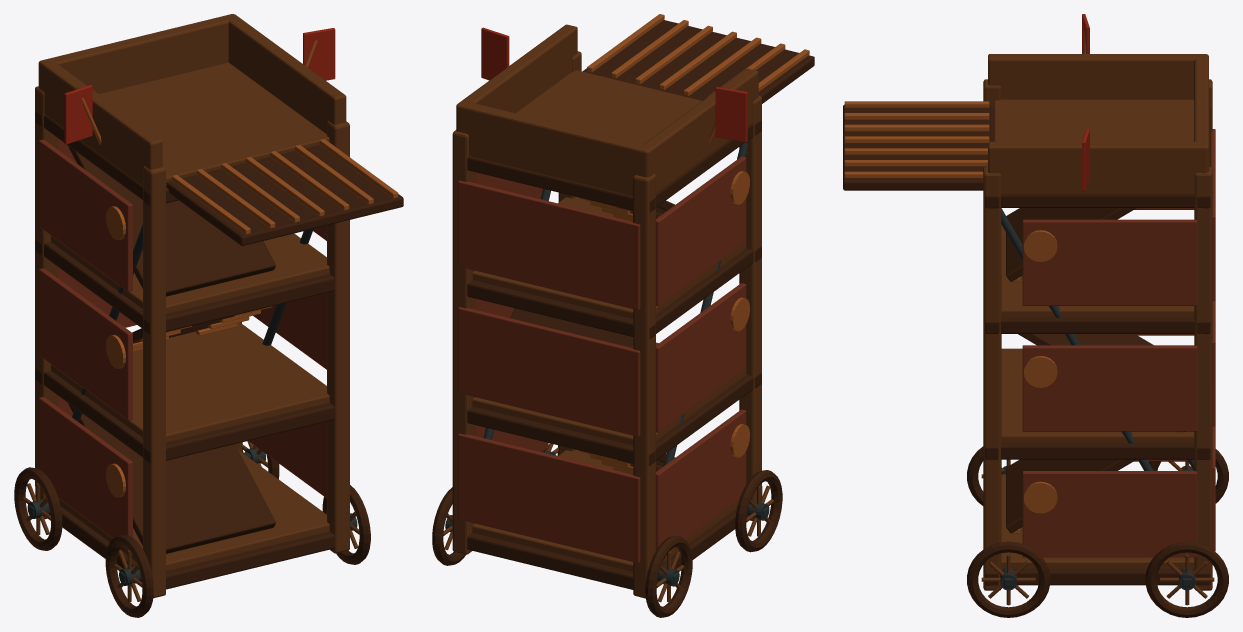
The model's file is siege_tower_traversable_LOD0.glb.
The picture shows the model from 3 angles, left to right: view 1: azimuth 30°, elevation 25°; view 2: azimuth 150°, elevation 25°; view 3: azimuth 270°, elevation 25°; orthographic projection. The views are drawn at different scales.
Visible parts, largest first — view 1: SiegeTowerWalkFloor.003, SiegeTowerWalkFloor.001, SiegeTowerInternalRampLower, SiegeTowerAssaultBridge, SiegeTowerMainPost, SiegeTowerSideHidePanel.002, SiegeTowerSideHidePanel.001, SiegeTowerMainPost.002, SiegeTowerSideHidePanel, SiegeTowerTopParapetRear, SiegeTowerInternalRampTop, SiegeTowerTopParapetSide.001 (+31 smaller); view 2: SiegeTowerRearHidePanel.002, SiegeTowerRearHidePanel, SiegeTowerRearHidePanel.001, SiegeTowerTopParapetRear, SiegeTowerSideHidePanel.002, SiegeTowerSideHidePanel.001, SiegeTowerWalkFloor.003, SiegeTowerSideHidePanel, SiegeTowerMainPost.001, SiegeTowerAssaultBridge, SiegeTowerMainPost, SiegeTowerTopParapetSide (+29 smaller); view 3: SiegeTowerSideHidePanel.004, SiegeTowerSideHidePanel.005, SiegeTowerSideHidePanel.003, SiegeTowerTopParapetSide.001, SiegeTowerTopParapetSide, SiegeTowerWalkFloor.003, SiegeTowerMainPost.002, SiegeTowerAssaultBridge, SiegeTowerMainPost.003, SiegeTowerWalkFloor.001, SiegeTowerWheel_R_R_Pivot, SiegeTowerWheel_R_F_Pivot (+24 smaller).
Part boxes in pixels (x1,y1,x2,y2): SiegeTowerWalkFloor.003: (99, 62, 329, 184); SiegeTowerWalkFloor.001: (51, 322, 329, 442); SiegeTowerInternalRampLower: (68, 403, 275, 553); SiegeTowerAssaultBridge: (166, 145, 403, 245); SiegeTowerMainPost: (143, 166, 165, 598); SiegeTowerSideHidePanel.002: (39, 139, 132, 291); SiegeTowerSideHidePanel.001: (39, 268, 132, 420); SiegeTowerMainPost.002: (327, 121, 349, 553); SiegeTowerSideHidePanel: (39, 397, 132, 548); SiegeTowerTopParapetRear: (39, 14, 236, 93); SiegeTowerInternalRampTop: (68, 146, 275, 296); SiegeTowerTopParapetSide.001: (227, 14, 346, 133); SiegeTowerRearHidePanel.002: (458, 180, 640, 310); SiegeTowerRearHidePanel: (458, 433, 640, 563); SiegeTowerRearHidePanel.001: (458, 307, 640, 436); SiegeTowerTopParapetRear: (456, 101, 651, 195); SiegeTowerSideHidePanel.002: (655, 156, 746, 306); SiegeTowerSideHidePanel.001: (655, 283, 746, 432); SiegeTowerWalkFloor.003: (516, 70, 701, 144); SiegeTowerSideHidePanel: (655, 409, 746, 550); SiegeTowerMainPost.001: (633, 174, 655, 598); SiegeTowerAssaultBridge: (582, 20, 814, 103); SiegeTowerMainPost: (739, 95, 762, 520); SiegeTowerTopParapetSide: (642, 68, 758, 193); SiegeTowerSideHidePanel.004: (1022, 345, 1197, 431); SiegeTowerSideHidePanel.005: (1022, 219, 1197, 305); SiegeTowerSideHidePanel.003: (1022, 471, 1197, 557); SiegeTowerTopParapetSide.001: (988, 141, 1207, 194); SiegeTowerTopParapetSide: (988, 54, 1206, 99); SiegeTowerWalkFloor.003: (994, 99, 1194, 141); SiegeTowerMainPost.002: (983, 167, 1001, 590); SiegeTowerAssaultBridge: (843, 104, 990, 190); SiegeTowerMainPost.003: (1194, 167, 1212, 590); SiegeTowerWalkFloor.001: (1001, 348, 1194, 442); SiegeTowerWheel_R_R_Pivot: (1145, 541, 1228, 617); SiegeTowerWheel_R_F_Pivot: (967, 541, 1050, 617).
Size of the model in its own units: 5.05 by 8.92 by 6.4.
